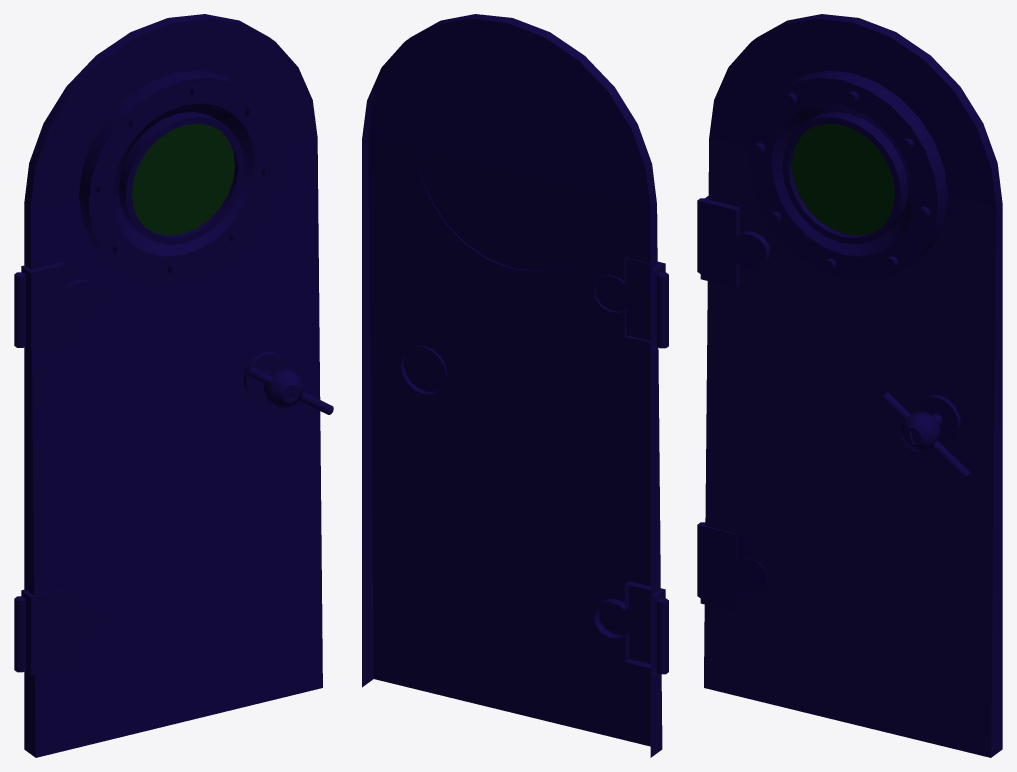
The model's file is Door_Single_Metal_02.FBX.
The picture shows the model from 3 angles, left to right: view 1: azimuth 30°, elevation 25°; view 2: azimuth 150°, elevation 25°; view 3: azimuth 330°, elevation 25°; orthographic projection.
Parts seen in each view (by area): view 1: Door_Single_Metal_02_LOD0; view 2: Door_Single_Metal_02_LOD0; view 3: Door_Single_Metal_02_LOD0.
Part boxes in pixels (<box>): Door_Single_Metal_02_LOD0: <box>14,14,333,757</box>; Door_Single_Metal_02_LOD0: <box>362,14,668,757</box>; Door_Single_Metal_02_LOD0: <box>697,14,1002,757</box>.
Bounding box in the file's own units: 125 × 277 × 25.12.
